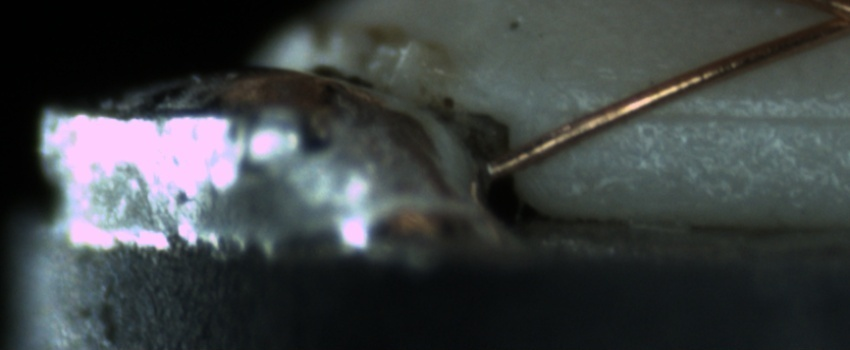CL: (802, 2, 848, 42)
DL: (578, 83, 842, 148)
